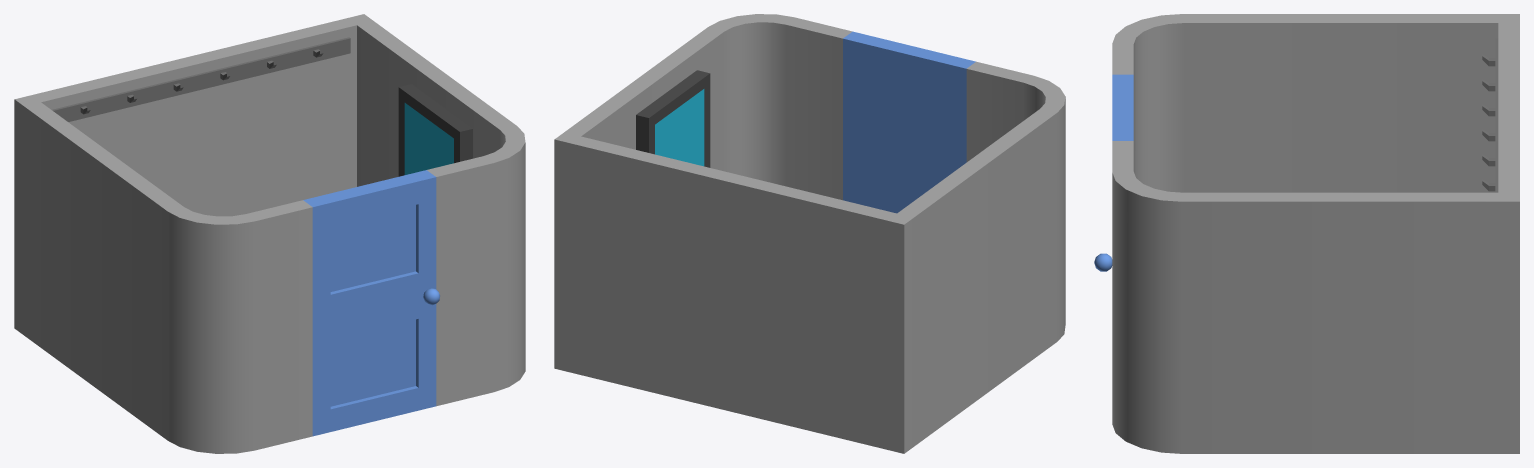
Rendered from kabin.fbx.
The picture shows the model from 3 angles, left to right: view 1: azimuth 30°, elevation 25°; view 2: azimuth 150°, elevation 25°; view 3: azimuth 270°, elevation 25°; orthographic projection. The views are drawn at different scales.
Visible parts, largest first — view 1: duıvar, kapi, aski, ayna; view 2: duıvar, kapi, ayna; view 3: duıvar, kapi, aski.
Part boxes in pixels (<box>): duıvar: <box>14,14,525,453</box>; kapi: <box>303,170,439,436</box>; aski: <box>52,37,350,121</box>; ayna: <box>398,84,472,176</box>; duıvar: <box>554,14,1065,453</box>; kapi: <box>843,31,975,213</box>; ayna: <box>636,70,710,167</box>; duıvar: <box>1112,14,1519,453</box>; kapi: <box>1094,74,1133,271</box>; aski: <box>1482,38,1498,192</box>.
Bounding box in the file's own units: 319 × 200 × 306.
